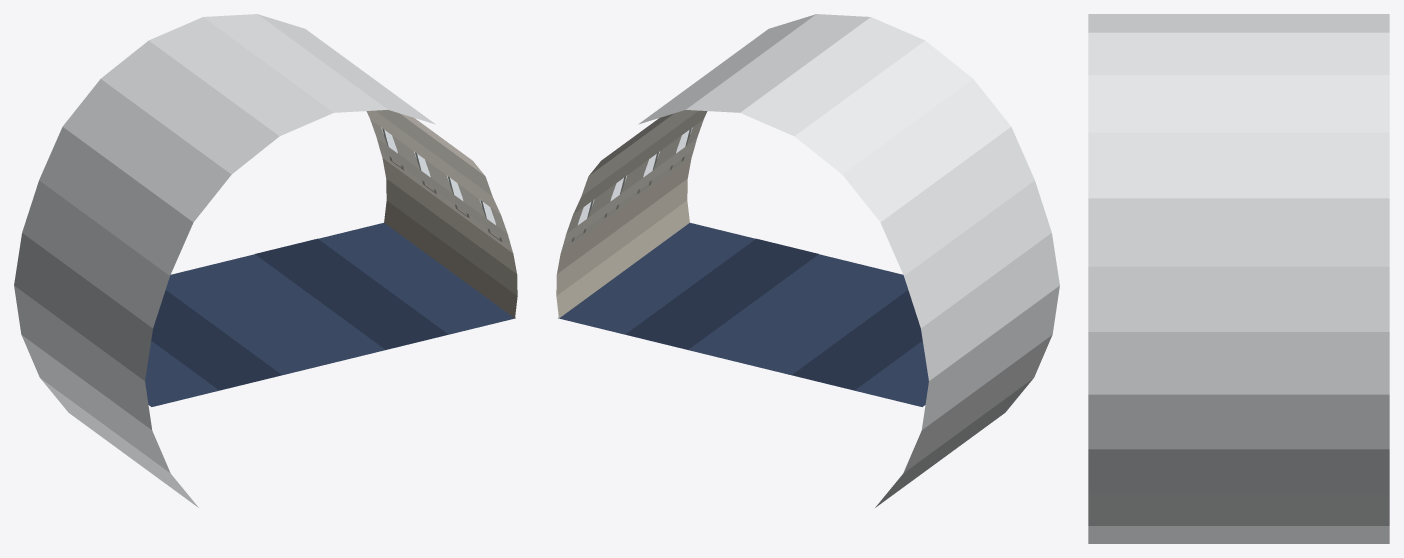
Rendered from ac_section_straight.glb.
3 renders of one model, left to right at view 1: azimuth 30°, elevation 25°; view 2: azimuth 150°, elevation 25°; view 3: azimuth 270°, elevation 25°, orthographic. The views are drawn at different scales.
Parts seen in each view (by area): view 1: ac_section_straight; view 2: ac_section_straight; view 3: ac_section_straight.
Part boxes in pixels (x1,y1,x2,y2): ac_section_straight: (14,14,517,507); ac_section_straight: (556,14,1059,507); ac_section_straight: (1088,14,1389,543).
Size of the model in its own units: 6 by 6.47 by 3.6.
